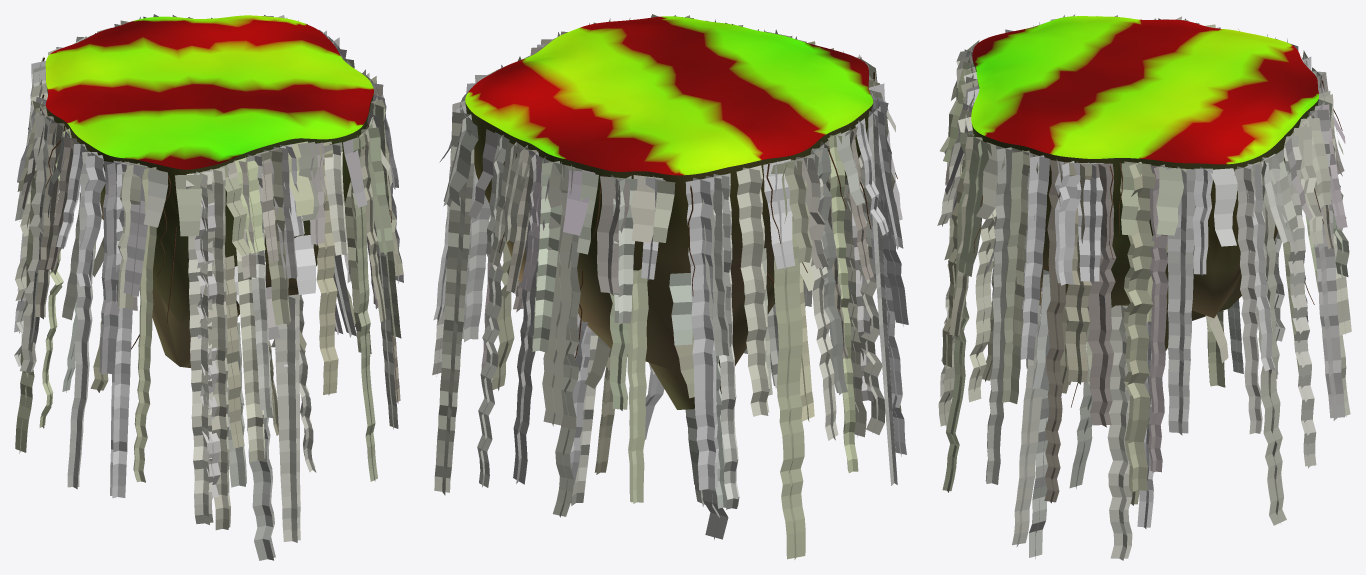
File: SM_H13_Floater07.fbx
The picture shows the model from 3 angles, left to right: view 1: azimuth 30°, elevation 25°; view 2: azimuth 150°, elevation 25°; view 3: azimuth 270°, elevation 25°; orthographic projection. The views are drawn at different scales.
Parts seen in each view (by area): view 1: SM_H13_Floater07_Ivy, SM_H13_Floater07; view 2: SM_H13_Floater07_Ivy, SM_H13_Floater07; view 3: SM_H13_Floater07_Ivy, SM_H13_Floater07.
Boxes of the visible parts, left/top/right/bottom form: SM_H13_Floater07_Ivy: left=14, top=14, right=403, bottom=560; SM_H13_Floater07: left=45, top=15, right=373, bottom=367; SM_H13_Floater07_Ivy: left=432, top=14, right=908, bottom=559; SM_H13_Floater07: left=465, top=16, right=873, bottom=409; SM_H13_Floater07_Ivy: left=937, top=14, right=1351, bottom=560; SM_H13_Floater07: left=971, top=16, right=1318, bottom=350.
Size of the model in its own units: 30.16 by 37.72 by 30.1.
